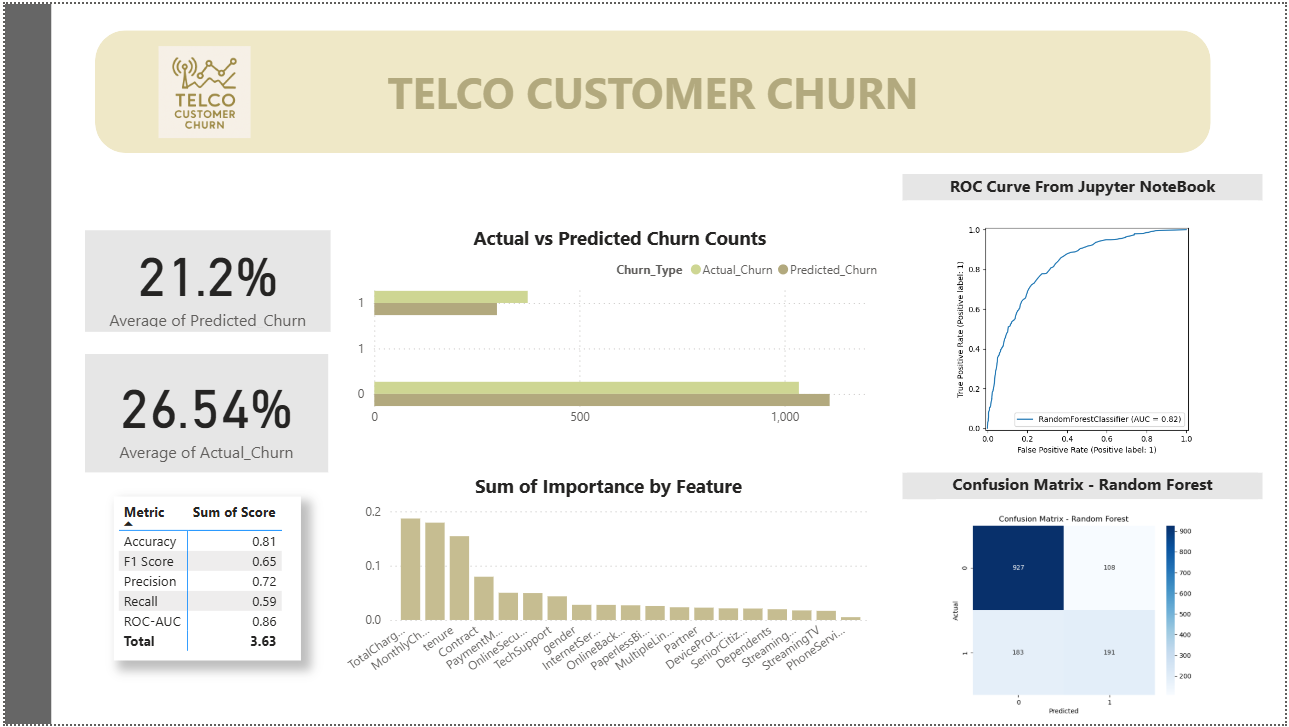

This screenshot's page, from the dashboard's own definition file:
{"tool":"powerbi","page":{"name":"Page 1","canvas":[1280,720],"ordinal":0},"visuals":[{"type":"shape","box":[0,0,46.2,720],"z":0},{"type":"shape","box":[90,25.7,1115.7,122.9],"z":0,"group":"g1"},{"type":"image","box":[148.6,31.4,101.4,111.4],"z":1000,"group":"g1"},{"type":"card","fields":{"Values":["Avg(churn_predictions.Actual_Churn)"]},"box":[80,350,242.9,118.6],"z":1000},{"type":"clusteredBarChart","title":"Actual vs Predicted Churn Counts","fields":{"Category":["churn_predictions.Churn_Status"],"Series":["churn_predictions.Churn_Type"],"Y":["CountNonNull(churn_predictions.Churn_Type)"]},"box":[347.1,221.4,534.3,210],"z":2000},{"type":"columnChart","fields":{"Category":["feature_importance.Feature"],"Y":["Sum(feature_importance.Importance)"]},"box":[335.7,468.6,534.3,211.4],"z":3001},{"type":"card","fields":{"Values":["Avg(churn_predictions.Predicted_Churn)"]},"box":[80,225.7,245.7,101.4],"z":3002},{"type":"group","id":"g1","title":"Group 1","box":[90,25.7,1115.7,122.9],"z":3003},{"type":"pivotTable","fields":{"Rows":["Table.Metric"],"Values":["Sum(Table.Score)"]},"box":[108.6,492.9,187.1,164.3],"z":3004},{"type":"image","title":"ROC Curve From Jupyter NoteBook","box":[897.1,170,360,285.7],"z":3005},{"type":"image","title":"Confusion Matrix - Random Forest","box":[897.1,468.6,360,251.4],"z":3006}]}

Visuals, with their boxes in screenshot pixels (x1, y1, x2, y2), scaled from the page's 1280x720 canvas onto the 1289x727 screenshot:
shape: [x1=0, y1=0, x2=47, y2=726]
shape: [x1=91, y1=26, x2=1214, y2=150]
image: [x1=150, y1=32, x2=252, y2=144]
card - Avg(churn_predictions.Actual_Churn): [x1=81, y1=353, x2=325, y2=473]
"Actual vs Predicted Churn Counts" clusteredBarChart: [x1=350, y1=224, x2=888, y2=436]
columnChart - feature_importance.Feature x Sum(feature_importance.Importance): [x1=338, y1=473, x2=876, y2=687]
card - Avg(churn_predictions.Predicted_Churn): [x1=81, y1=228, x2=328, y2=330]
"Group 1" group: [x1=91, y1=26, x2=1214, y2=150]
pivotTable - Table.Metric x Sum(Table.Score): [x1=109, y1=498, x2=298, y2=664]
"ROC Curve From Jupyter NoteBook" image: [x1=903, y1=172, x2=1266, y2=460]
"Confusion Matrix - Random Forest" image: [x1=903, y1=473, x2=1266, y2=726]
